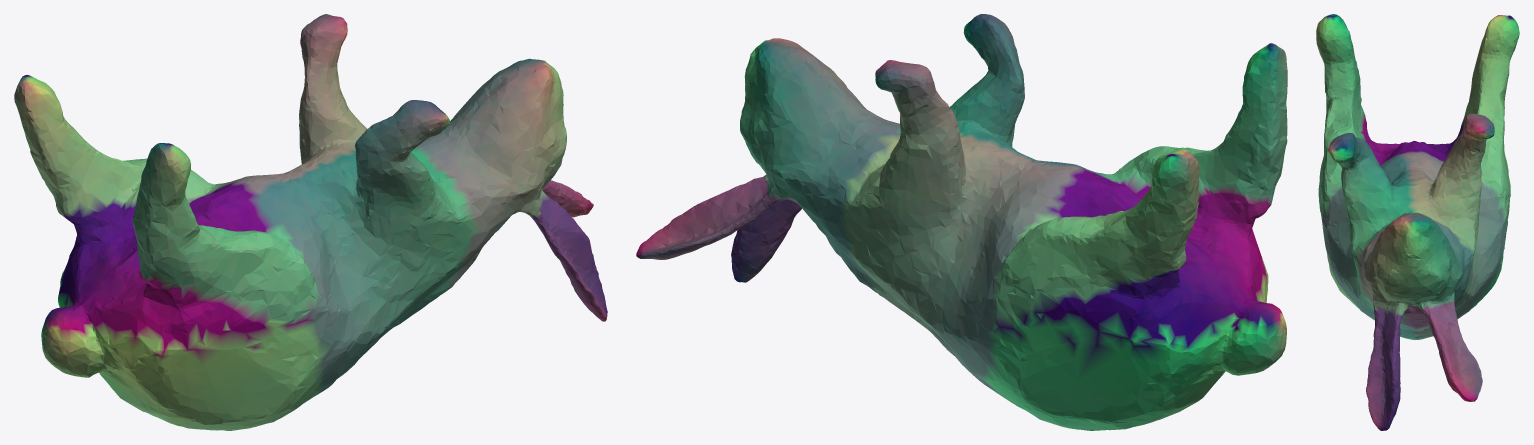
File: rabbit-10.off.obj
3 renders of one model, left to right at view 1: azimuth 30°, elevation 25°; view 2: azimuth 150°, elevation 25°; view 3: azimuth 270°, elevation 25°, orthographic. The views are drawn at different scales.
Size of the model in its own units: 1.47 by 0.8492 by 0.5862.
